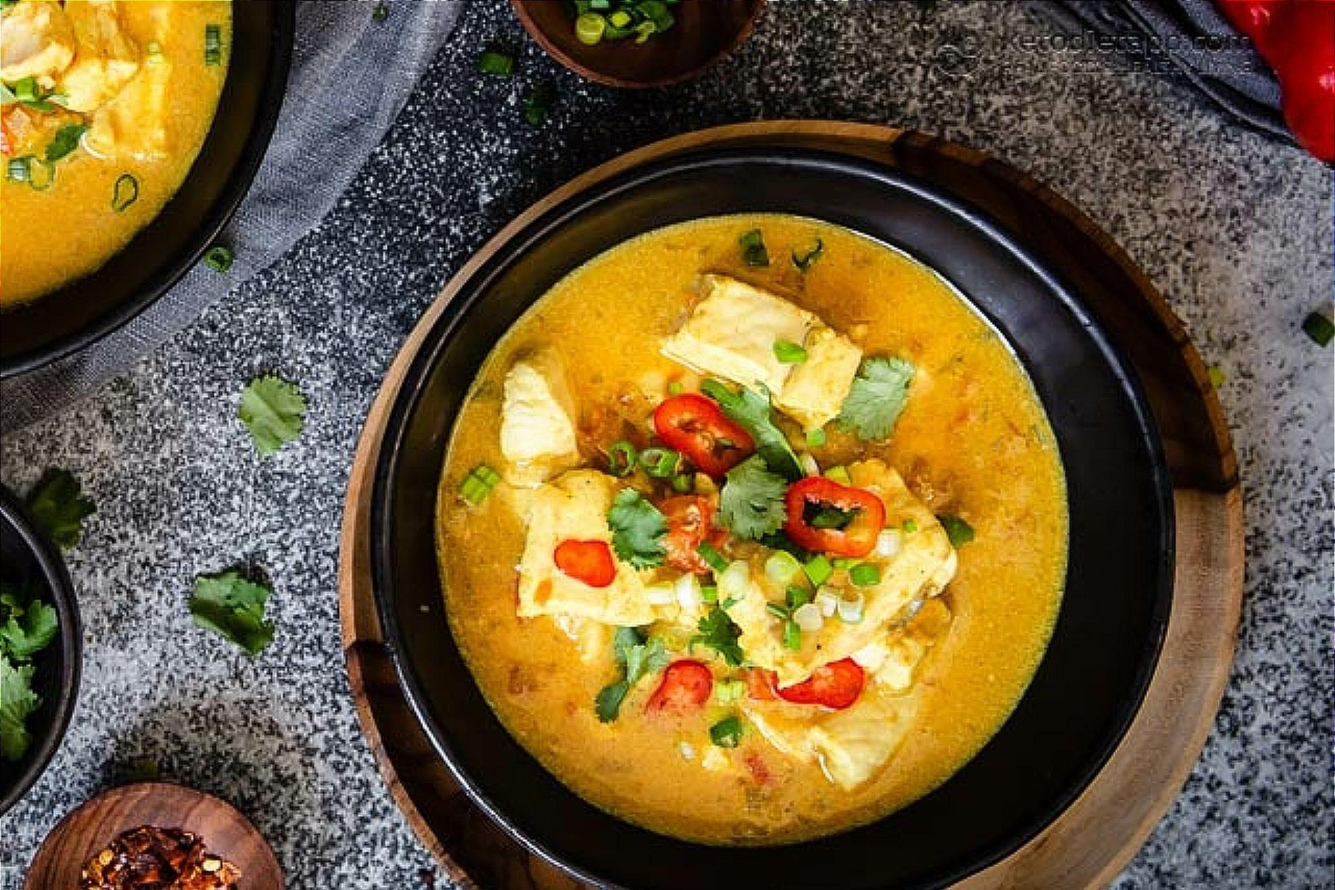FishCurry: (429, 211, 1073, 842)
